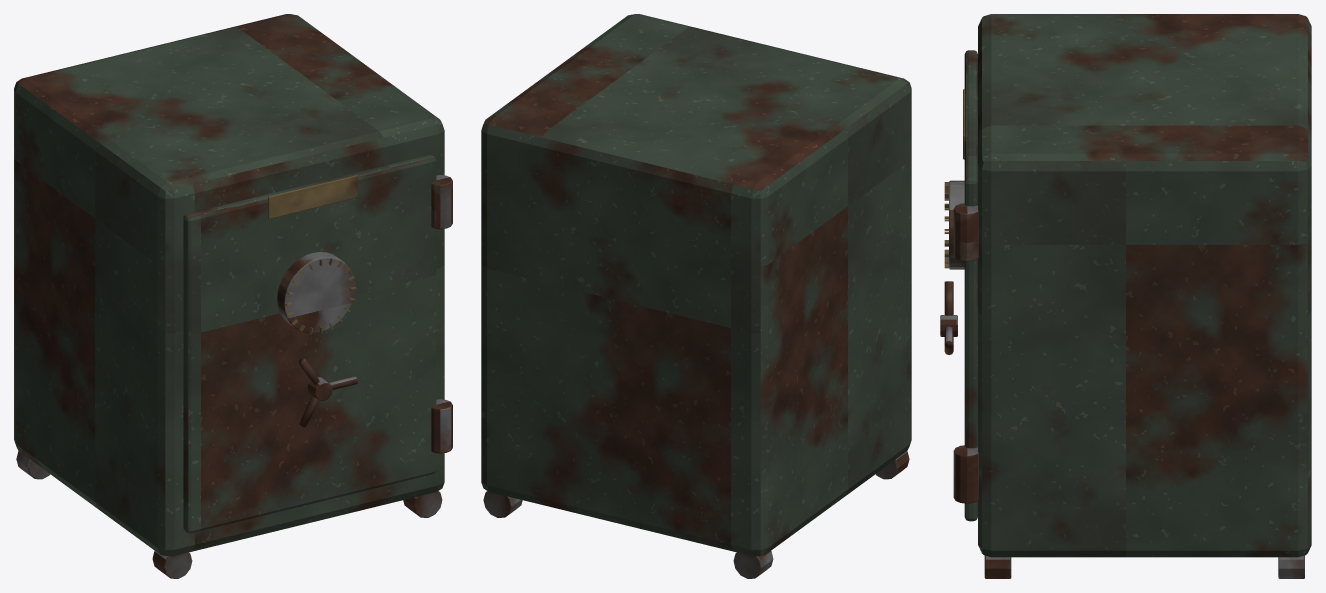
File: O04_big_floor_safe.glb
3 renders of one model, left to right at view 1: azimuth 30°, elevation 25°; view 2: azimuth 150°, elevation 25°; view 3: azimuth 270°, elevation 25°, orthographic. The views are drawn at different scales.
Parts seen in each view (by area): view 1: O04_big_floor_safe; view 2: O04_big_floor_safe; view 3: O04_big_floor_safe.
Boxes of the visible parts, left/top/right/bottom form: O04_big_floor_safe: left=14, top=14, right=452, bottom=578; O04_big_floor_safe: left=481, top=14, right=911, bottom=578; O04_big_floor_safe: left=940, top=14, right=1311, bottom=578.
Size of the model in its own units: 0.7547 by 1 by 0.7877.
Materials: 3 (3 with a texture image).
